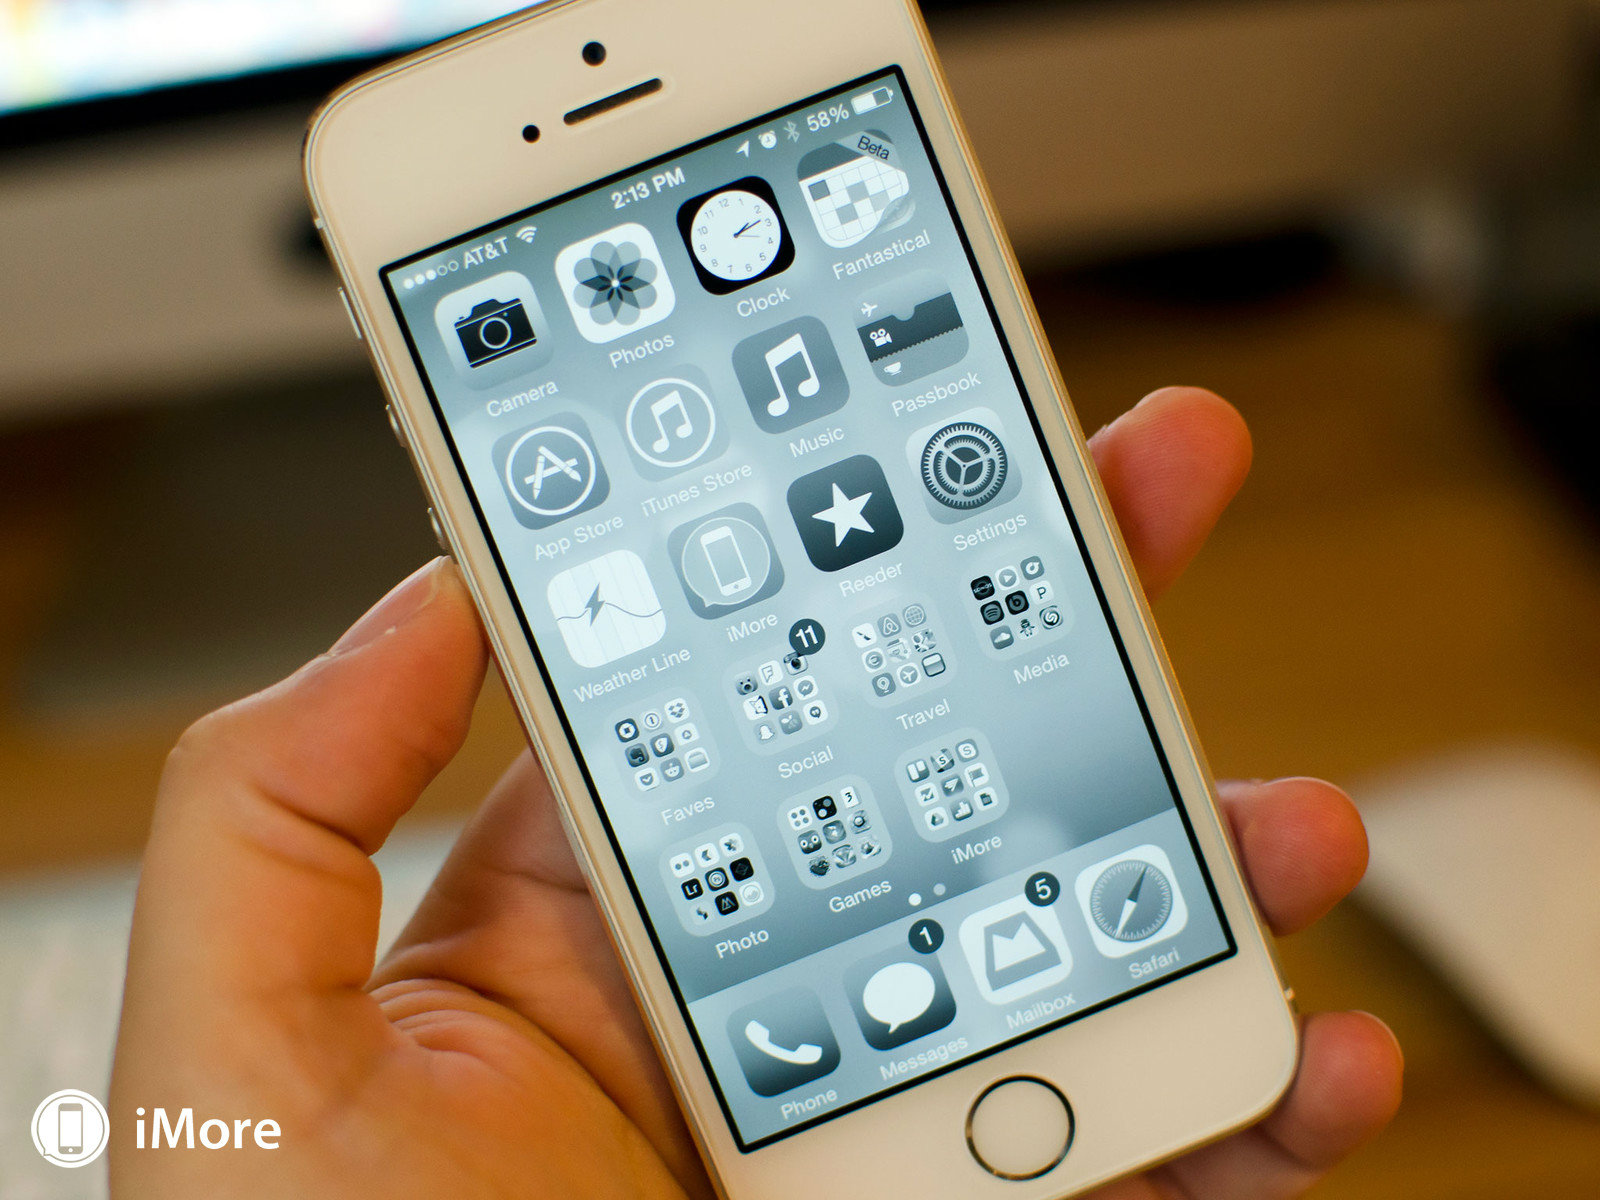Phone: (300, 3, 1310, 1200)
